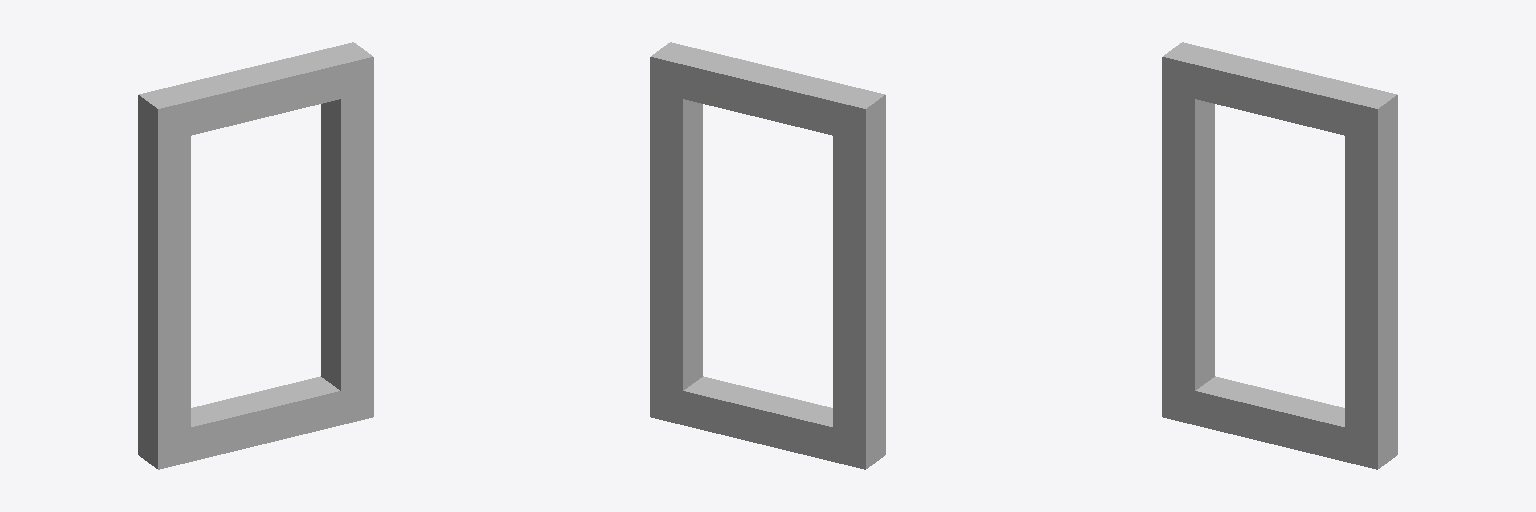
The model's file is window-white-tall.obj.
The picture shows the model from 3 angles: view 1: azimuth 30°, elevation 25°; view 2: azimuth 150°, elevation 25°; view 3: azimuth 330°, elevation 25°; orthographic projection.
Visible parts, largest first — view 1: window-white-tall; view 2: window-white-tall; view 3: window-white-tall.
Boxes of the visible parts, box(x1,y1,x2,y2) form: window-white-tall: box(138, 42, 373, 469); window-white-tall: box(650, 42, 885, 469); window-white-tall: box(1162, 42, 1397, 469).
Size of the model in its own units: 0.3125 by 0.5 by 0.05.